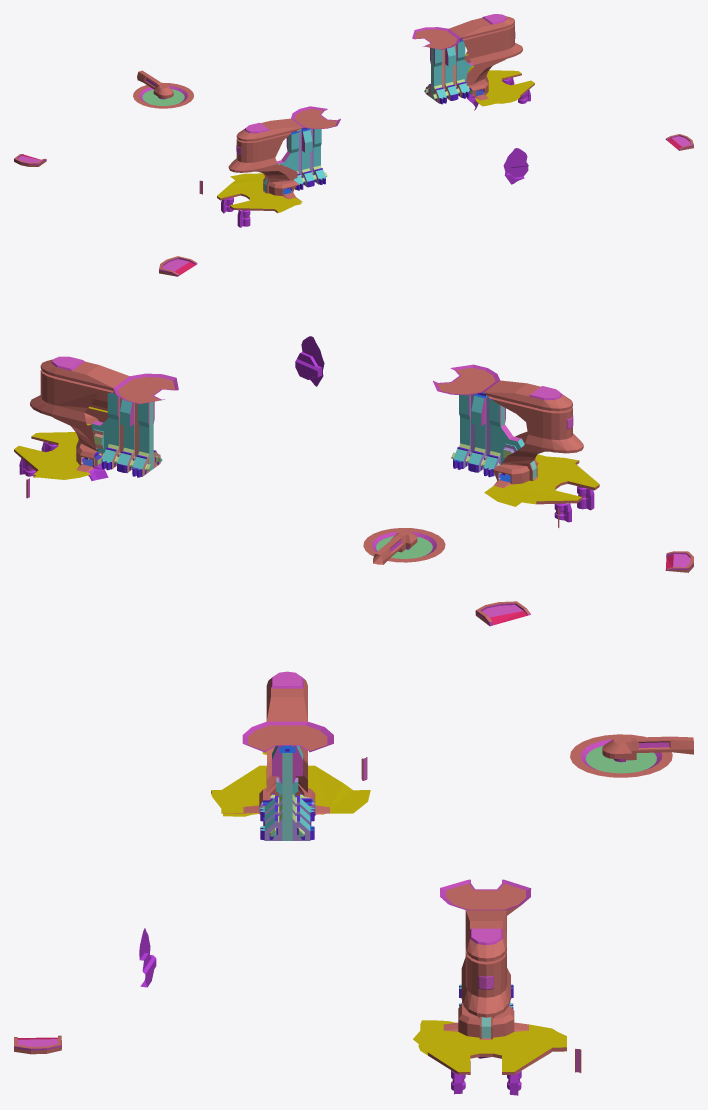
Rendered from level_collision_metal.fbx.
3 renders of one model, top to bottom at view 1: azimuth 30°, elevation 25°; view 2: azimuth 150°, elevation 25°; view 3: azimuth 270°, elevation 25°, orthographic. The views are drawn at different scales.
Parts seen in each view (by area): view 1: level_collision_metal; view 2: level_collision_metal; view 3: level_collision_metal.
Part boxes in pixels (left/top/right/bottom): level_collision_metal: left=14, top=14, right=693, bottom=227; level_collision_metal: left=14, top=256, right=693, bottom=572; level_collision_metal: left=14, top=601, right=693, bottom=1095.
Size of the model in its own units: 1197144 by 194013 by 786404.
